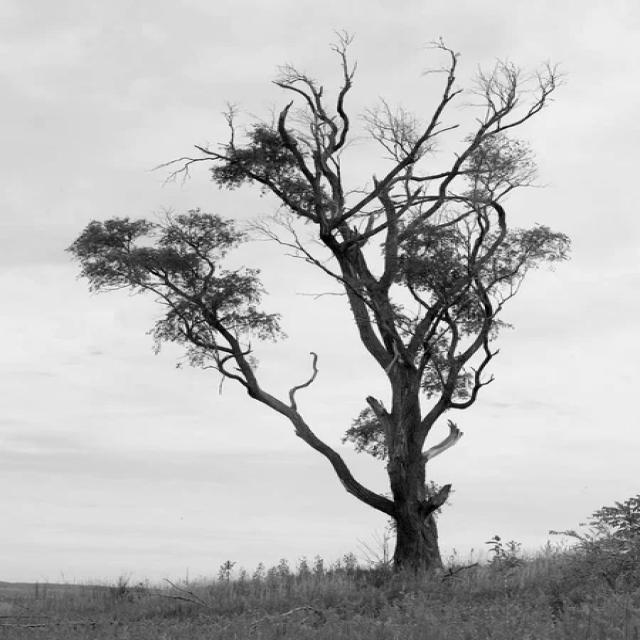Tree: (70, 34, 569, 572)
